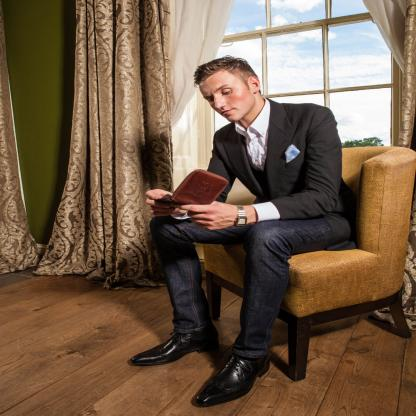monedero: (152, 167, 229, 207)
